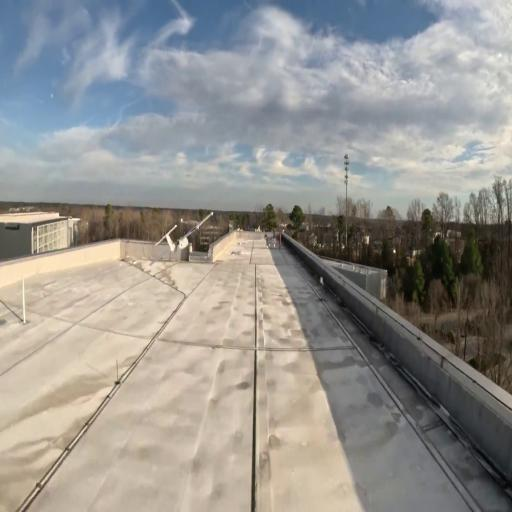uav: (152, 208, 215, 257)
